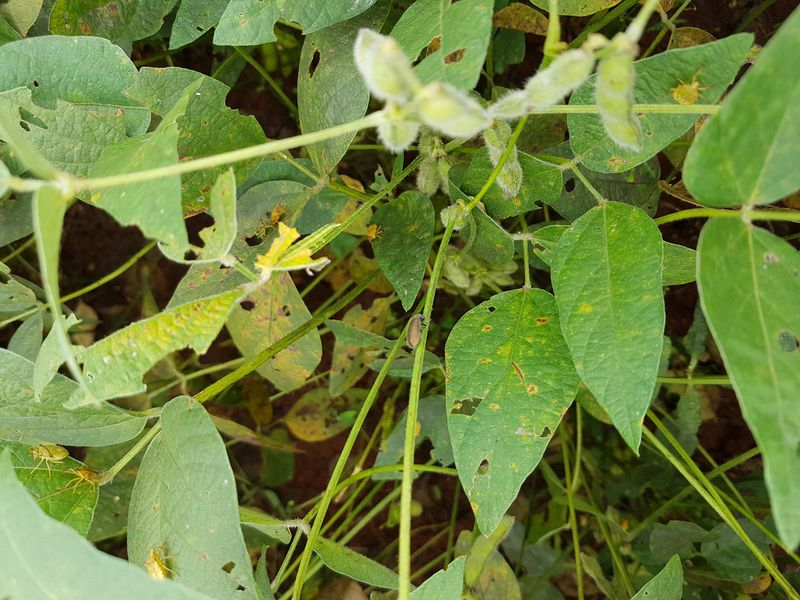Euschistus_heros_ninfa: (664, 64, 714, 110), (137, 543, 183, 590), (24, 438, 70, 481), (62, 462, 111, 500), (362, 222, 387, 246)
Lagria_villosa: (401, 311, 433, 354)
